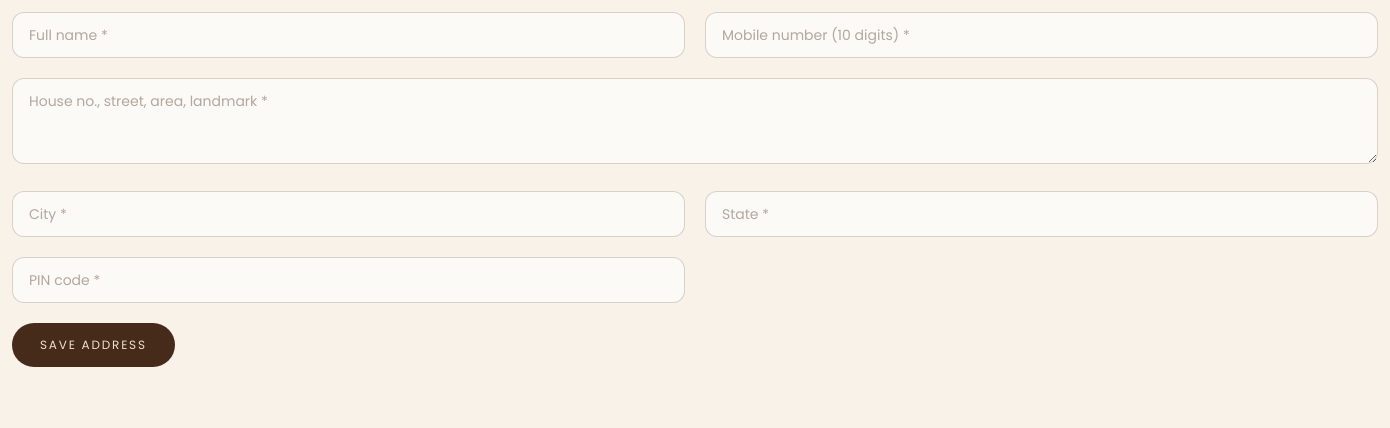
Scenario: AddressForm › a wrong mobile number and PIN code get their own messages
In the field labelled "Full name": (348, 35) [12,12,685,58], type "Priya S"
In the field labelled "Mobile number (10 digits)": (1042, 35) [705,12,1378,58], type "12345"
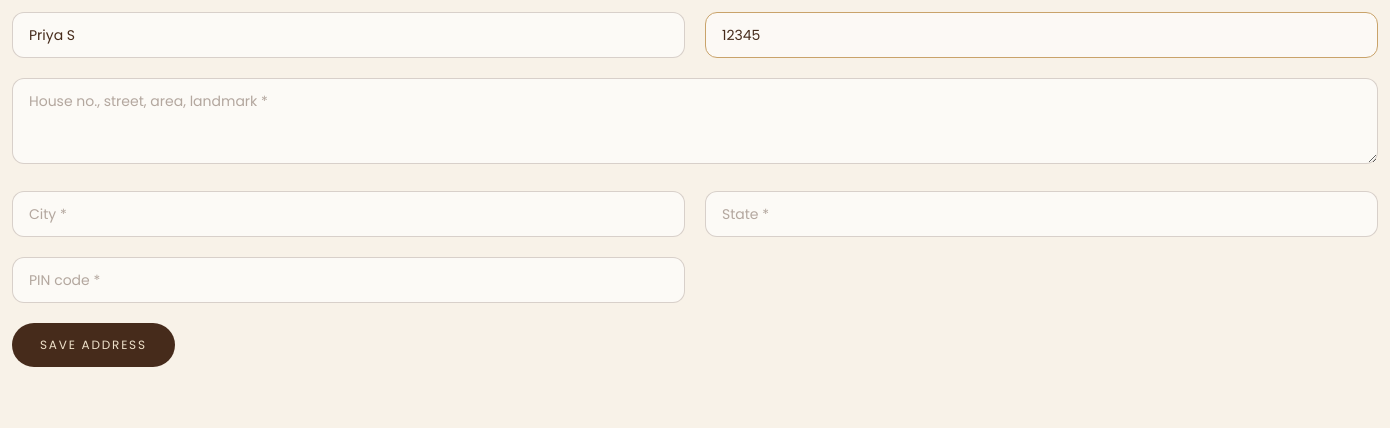
In the text box labelled "House no., street, area, landmark": (695, 121) [12,78,1378,164], type "12 Lake Road"
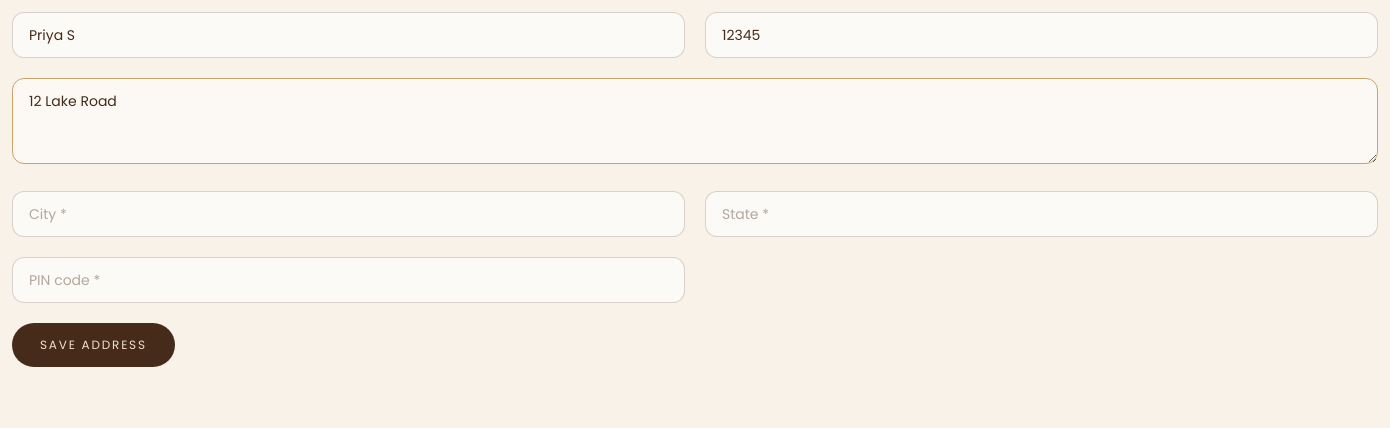
In the field labelled "City": (348, 214) [12,191,685,237], type "Chennai"
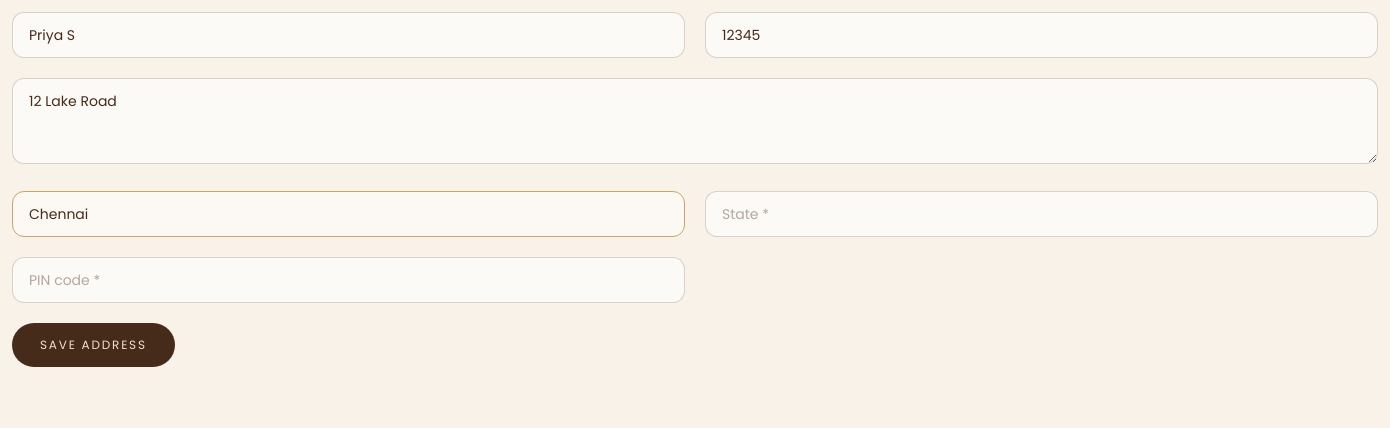
In the field labelled "State": (1042, 214) [705,191,1378,237], type "Tamil Nadu"
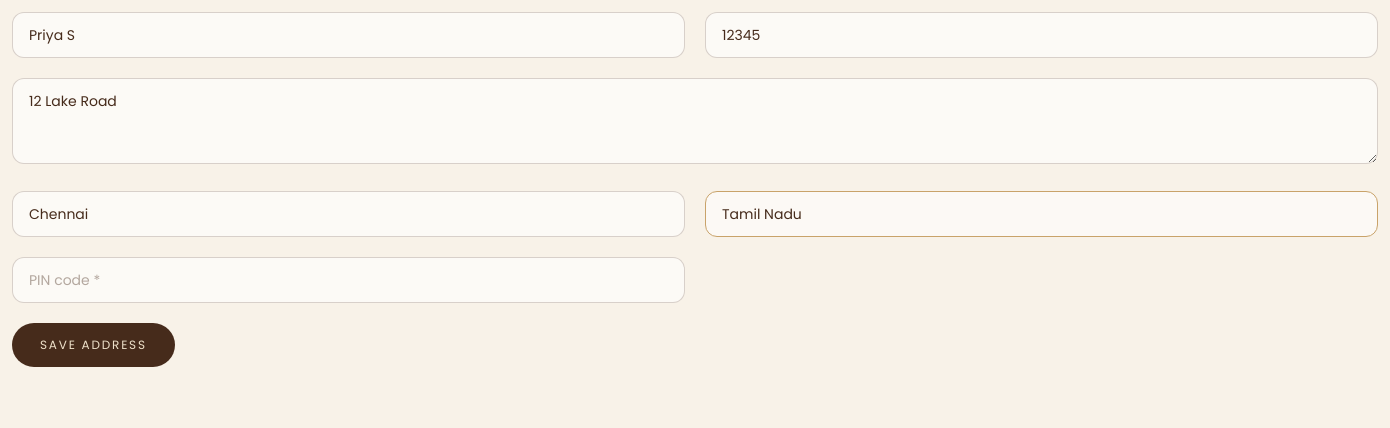
In the field labelled "PIN code": (348, 280) [12,257,685,303], type "012345"
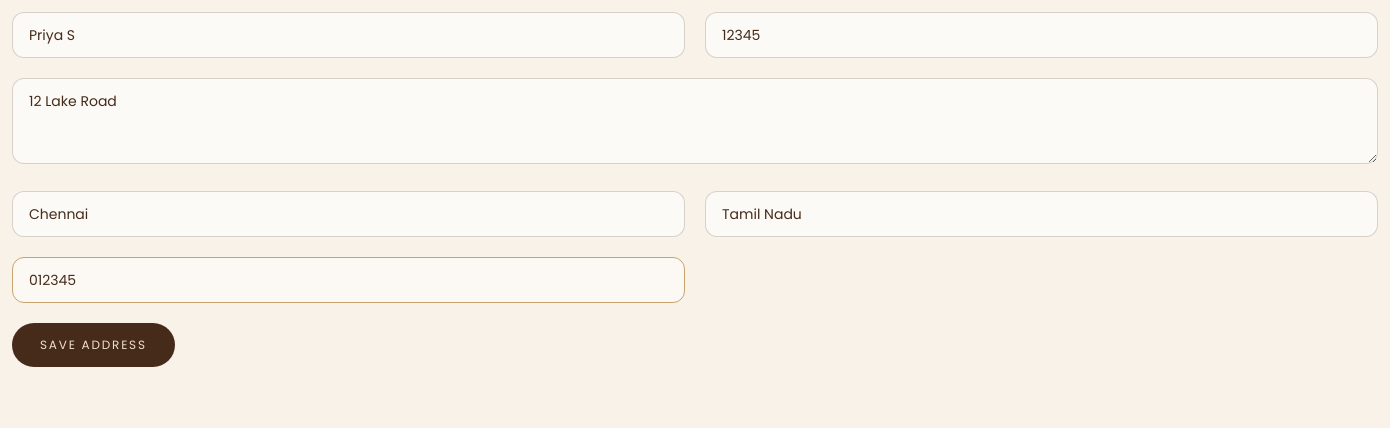
Click the button "Save Address": (93, 345) [12,323,175,367]
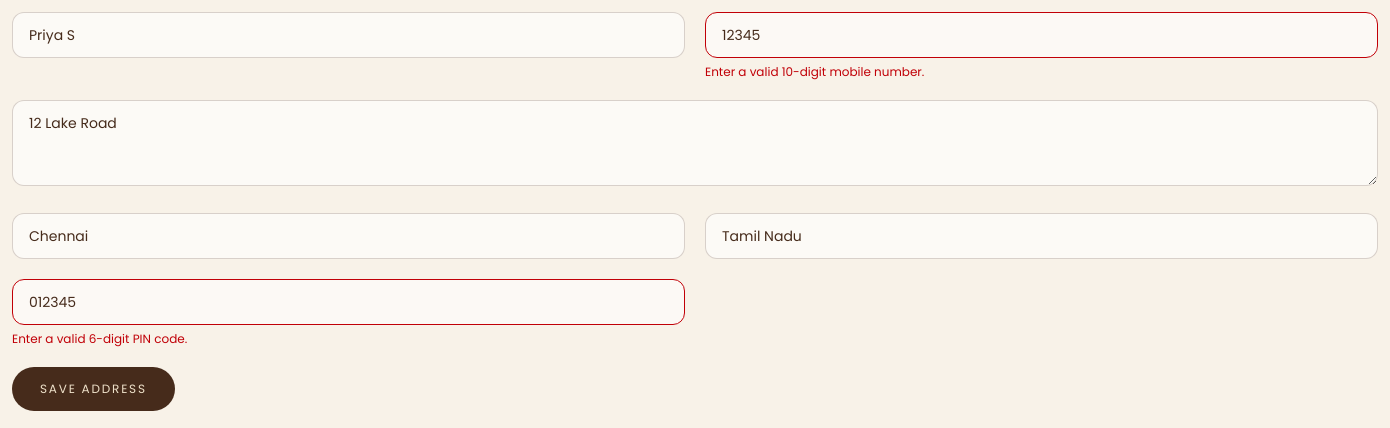
expect the text "Enter a valid 10-digit mobile number." is shown: met, box [705,63,924,80]
expect the text "Enter a valid 6-digit PIN code." is shown: met, box [12,330,187,347]
